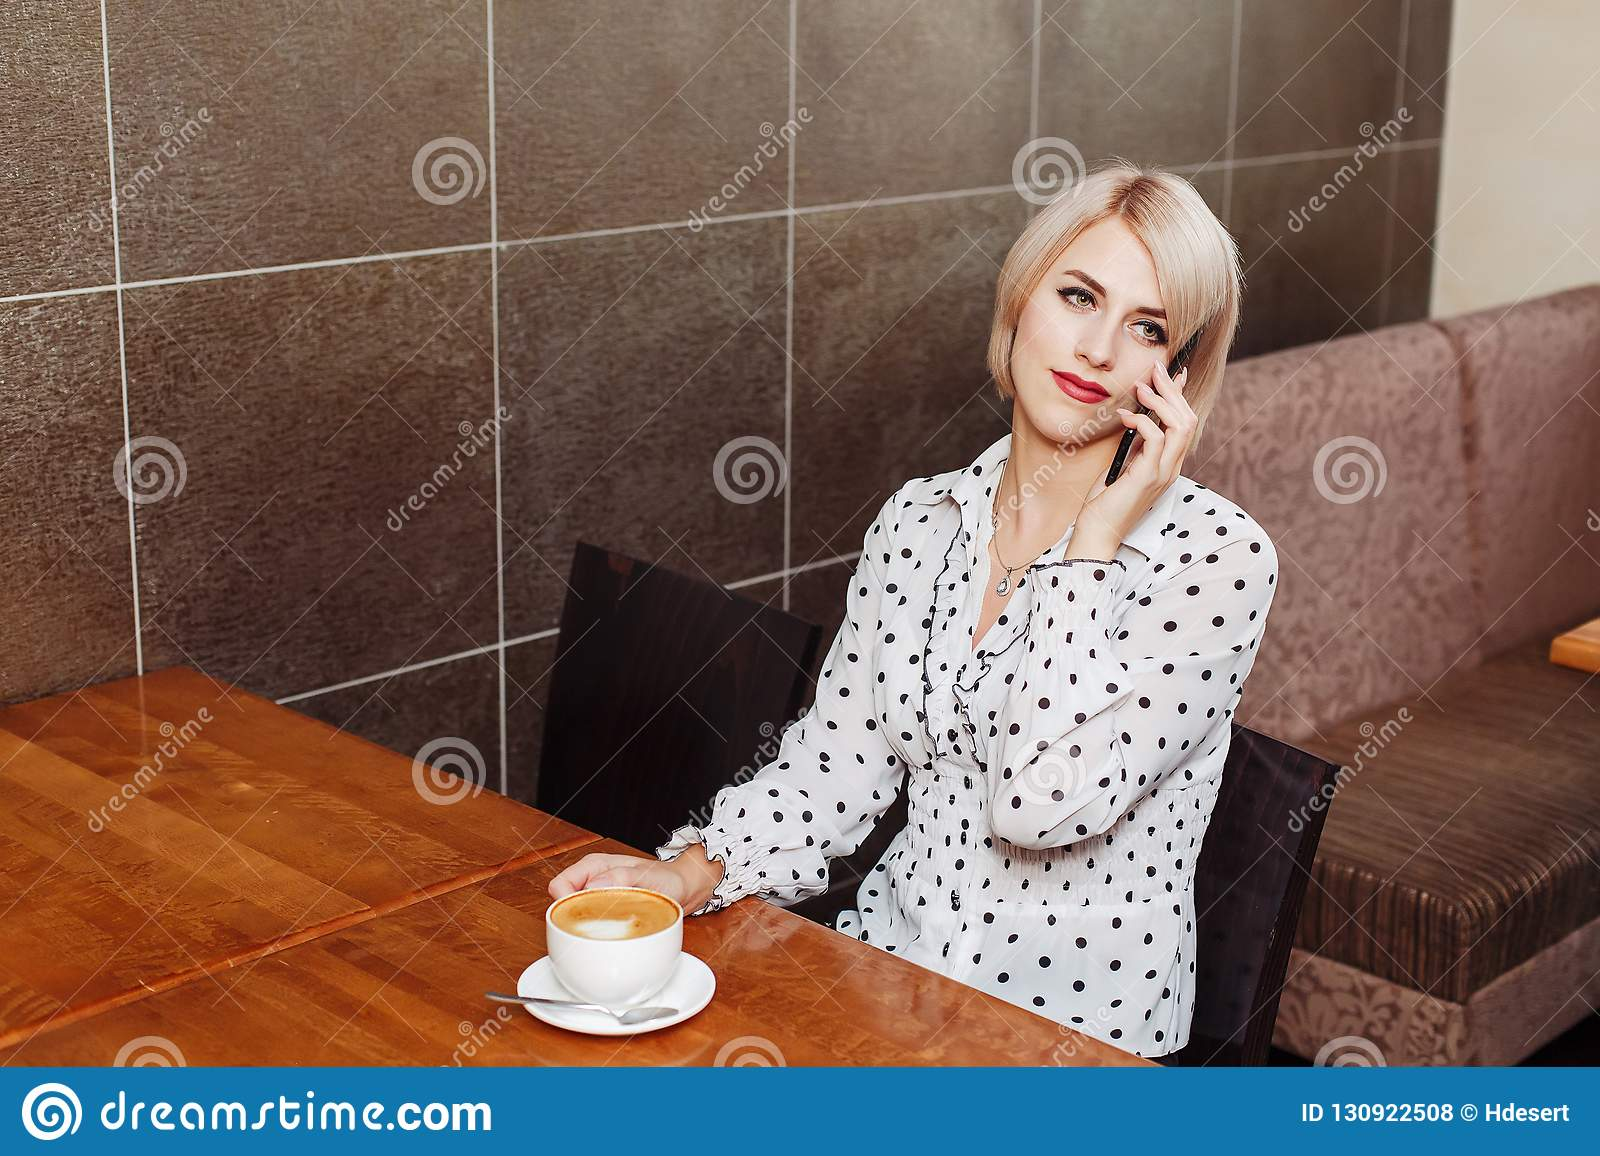phone: (1106, 323, 1201, 488)
talk: (1024, 260, 1206, 526)
